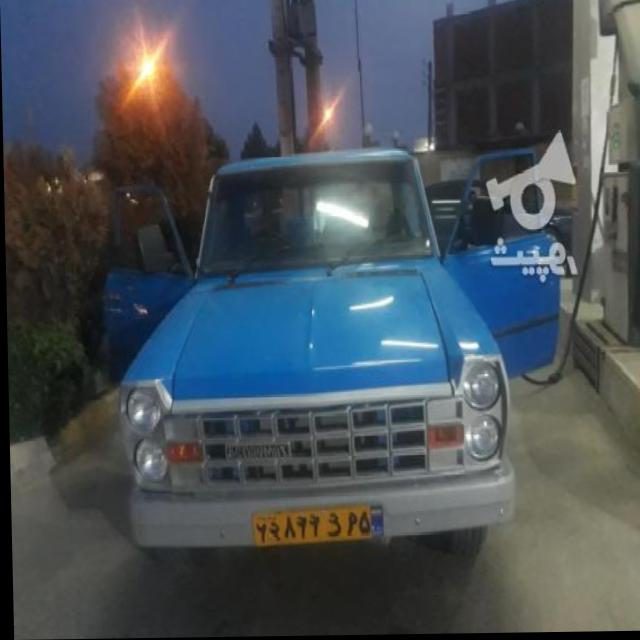licence: (249, 505, 386, 546)
